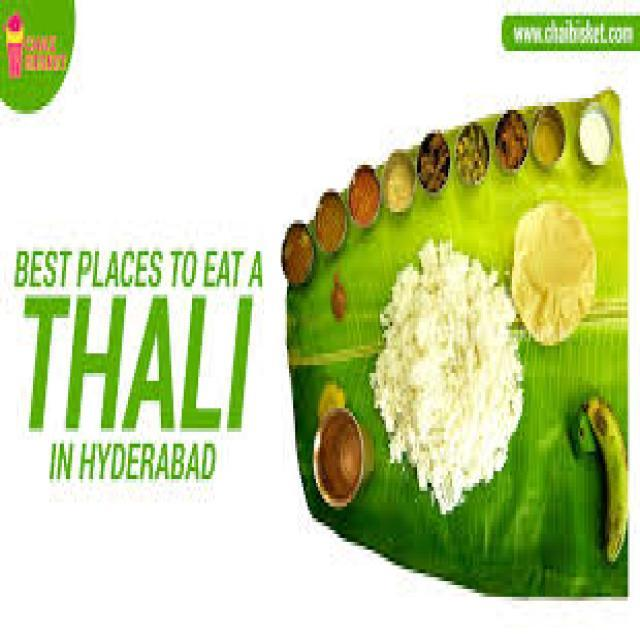rice: (375, 248, 522, 505)
sweet: (306, 399, 370, 508), (280, 219, 319, 294)
veg-fry: (510, 200, 598, 342)
